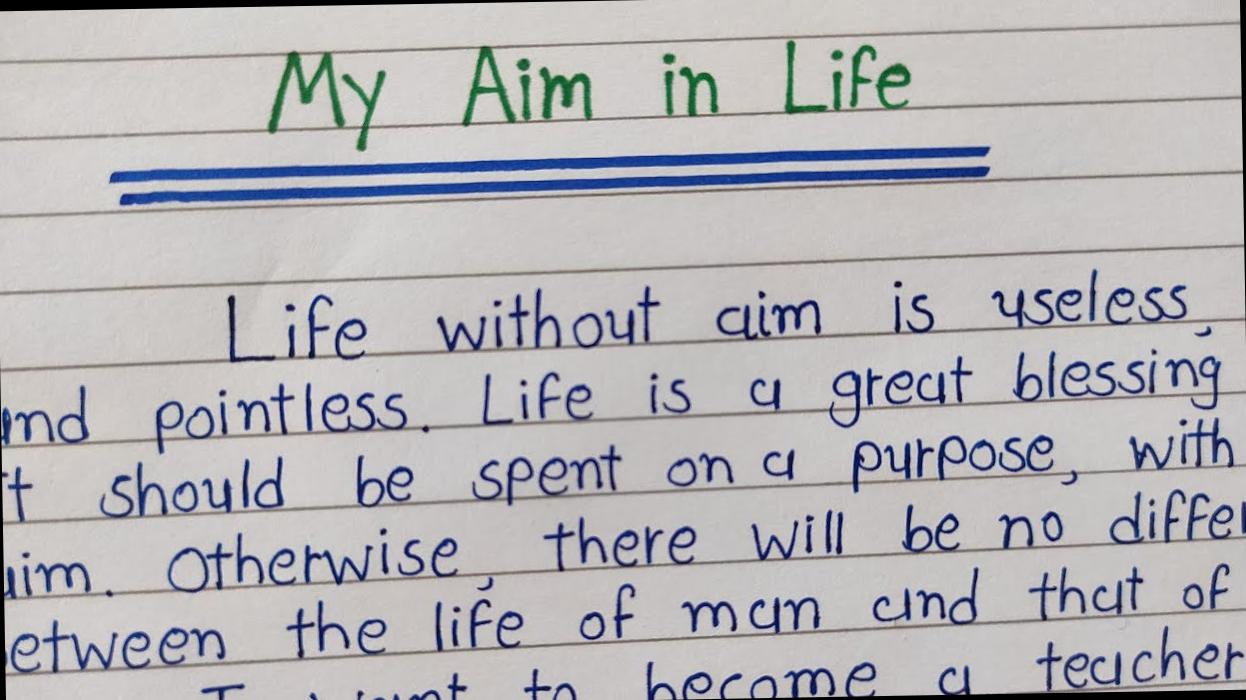text: (3, 556, 1246, 679), (2, 487, 1246, 607), (0, 342, 1227, 462), (1, 409, 1240, 526), (222, 261, 1246, 367), (191, 619, 1246, 700), (262, 35, 915, 159)
